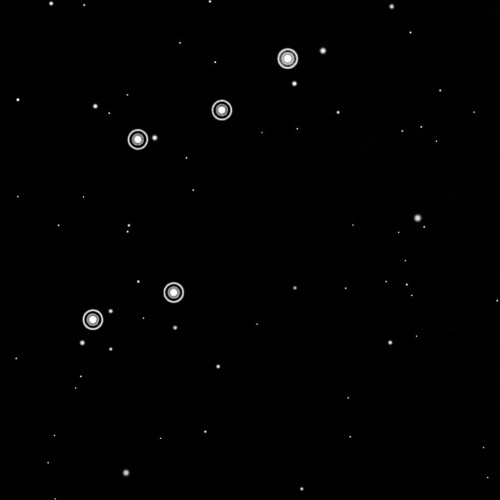lyra: (80, 41, 302, 336)
